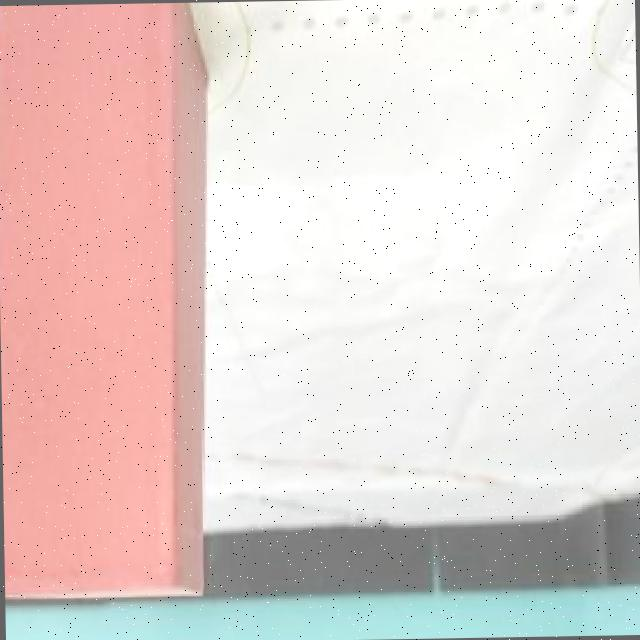redbox: (0, 1, 222, 603)
